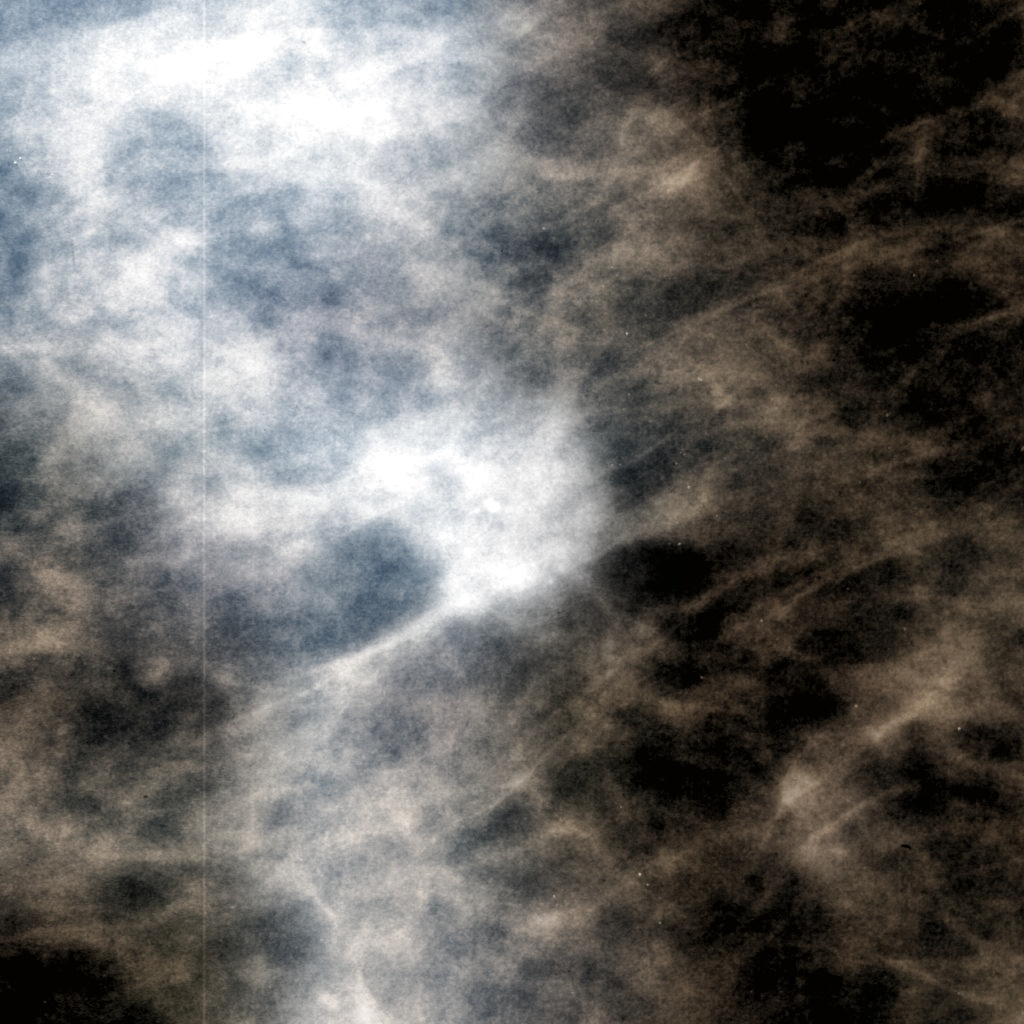tumor: (347, 364, 677, 660)
